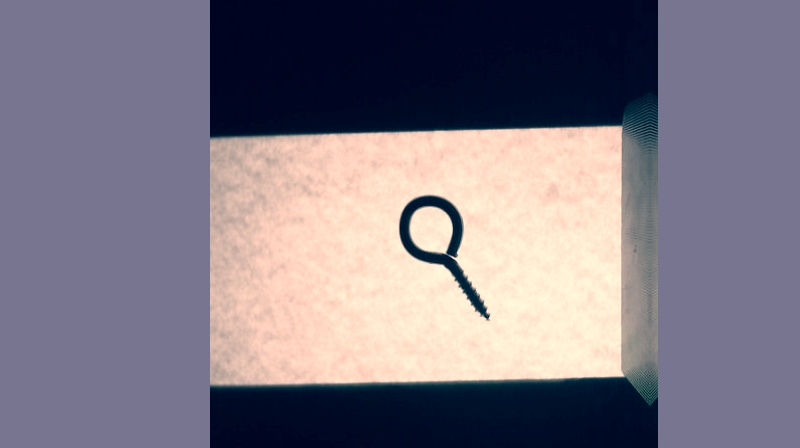O001: (395, 188, 493, 322)
